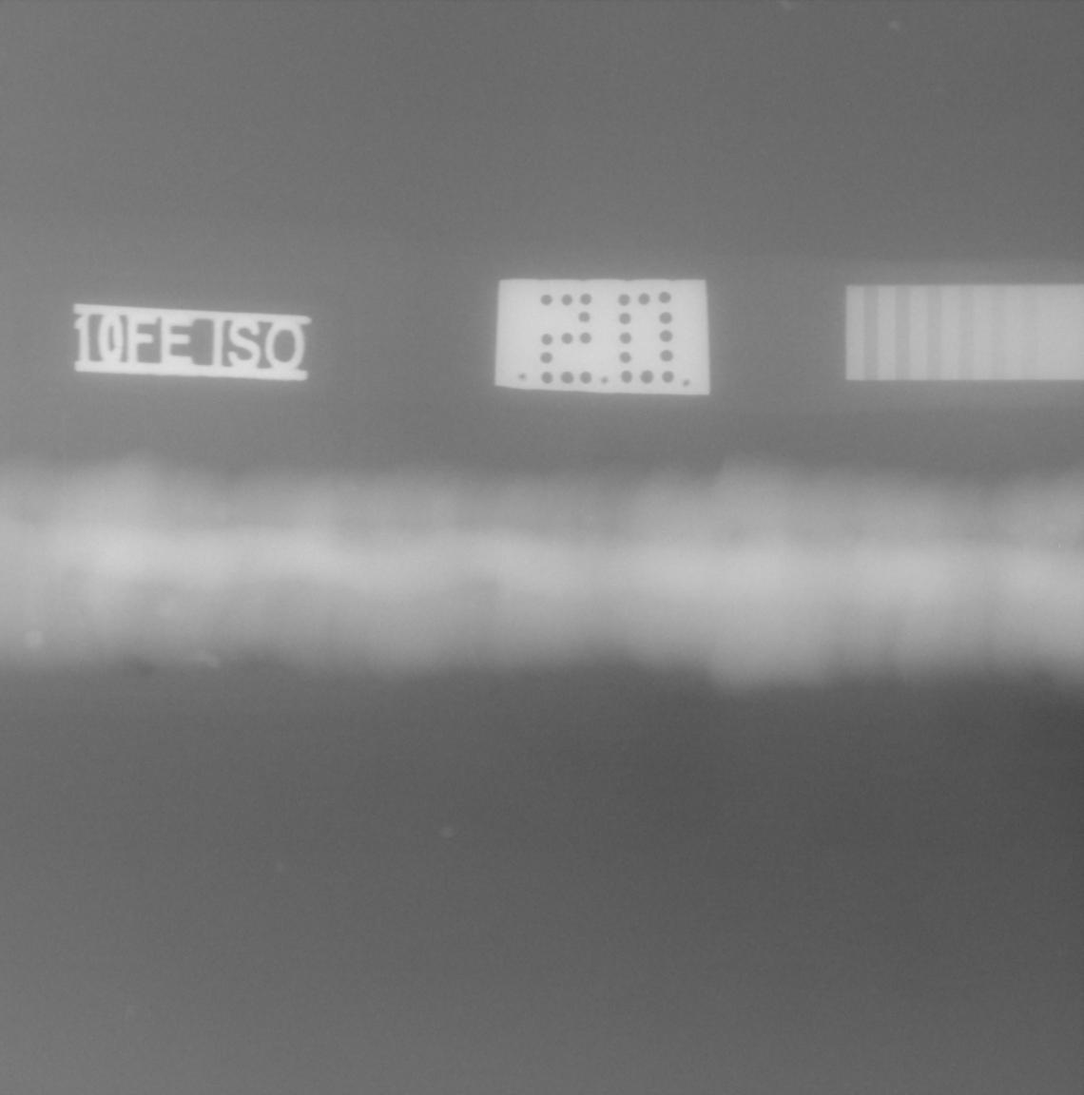Undercut: (134, 663, 156, 681)
